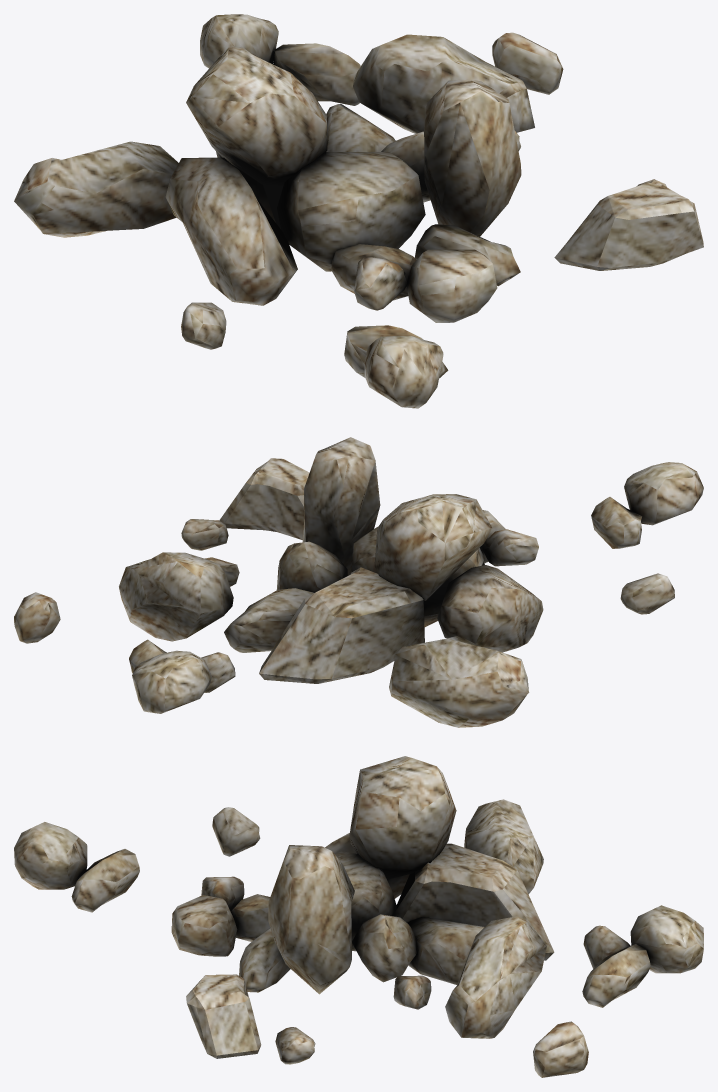
Rendered from resourceStone.FBX.
The picture shows the model from 3 angles, top to bottom: view 1: azimuth 30°, elevation 25°; view 2: azimuth 150°, elevation 25°; view 3: azimuth 270°, elevation 25°; orthographic projection. The views are drawn at different scales.
Parts seen in each view (by area): view 1: resourceStone; view 2: resourceStone; view 3: resourceStone.
Part boxes in pixels (left/top/right/bottom): resourceStone: left=14, top=14, right=703, bottom=408; resourceStone: left=14, top=437, right=703, bottom=727; resourceStone: left=14, top=756, right=703, bottom=1077.
Size of the model in its own units: 198 by 66.12 by 247.
